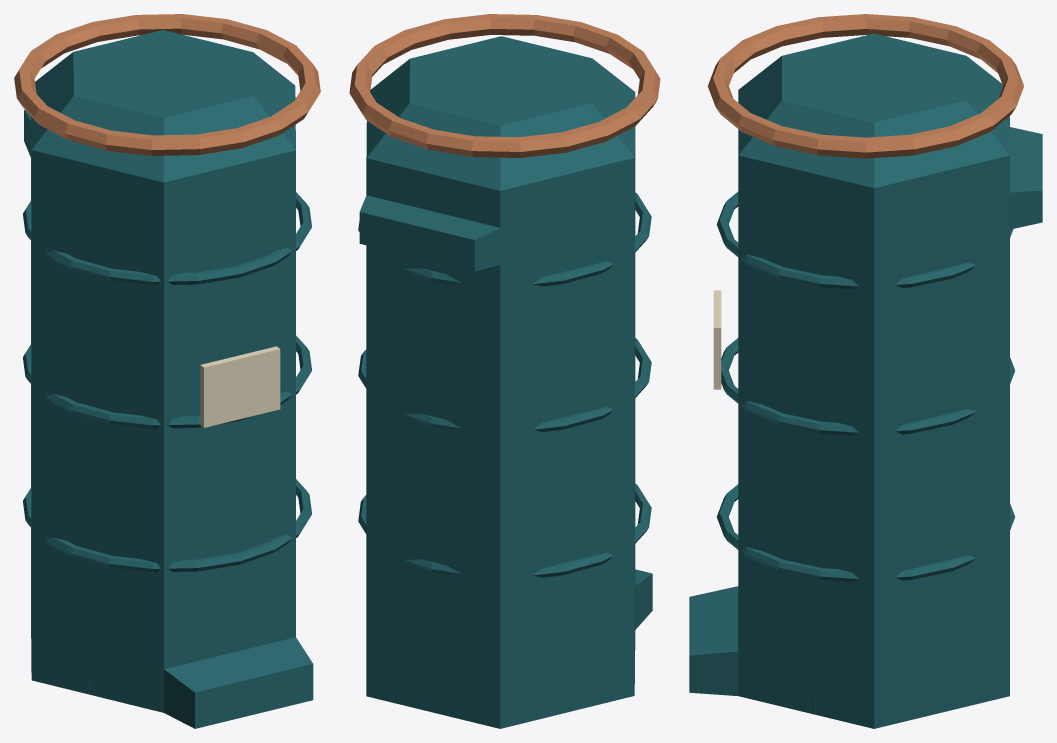
Rendered from trashcan.glb.
3 views of the same model, side by side, from view 1: azimuth 30°, elevation 25°; view 2: azimuth 150°, elevation 25°; view 3: azimuth 270°, elevation 25° (orthographic).
Visible parts, largest first — view 1: trashcan(Clone); view 2: trashcan(Clone); view 3: trashcan(Clone).
Part boxes in pixels (x1,y1,x2,y2): trashcan(Clone): [14, 14, 320, 728]; trashcan(Clone): [349, 14, 660, 728]; trashcan(Clone): [689, 14, 1042, 728].
Bounding box in the file's own units: 0.2077 × 0.4279 × 0.2341.
